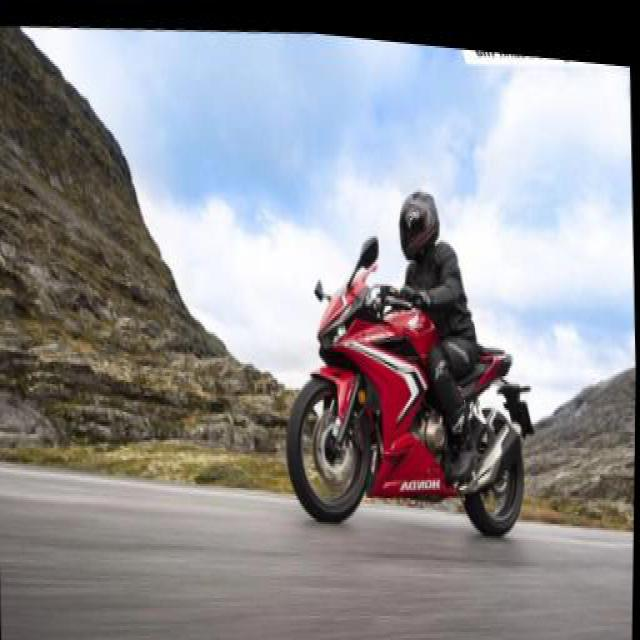CBR500R: (281, 237, 537, 547)
